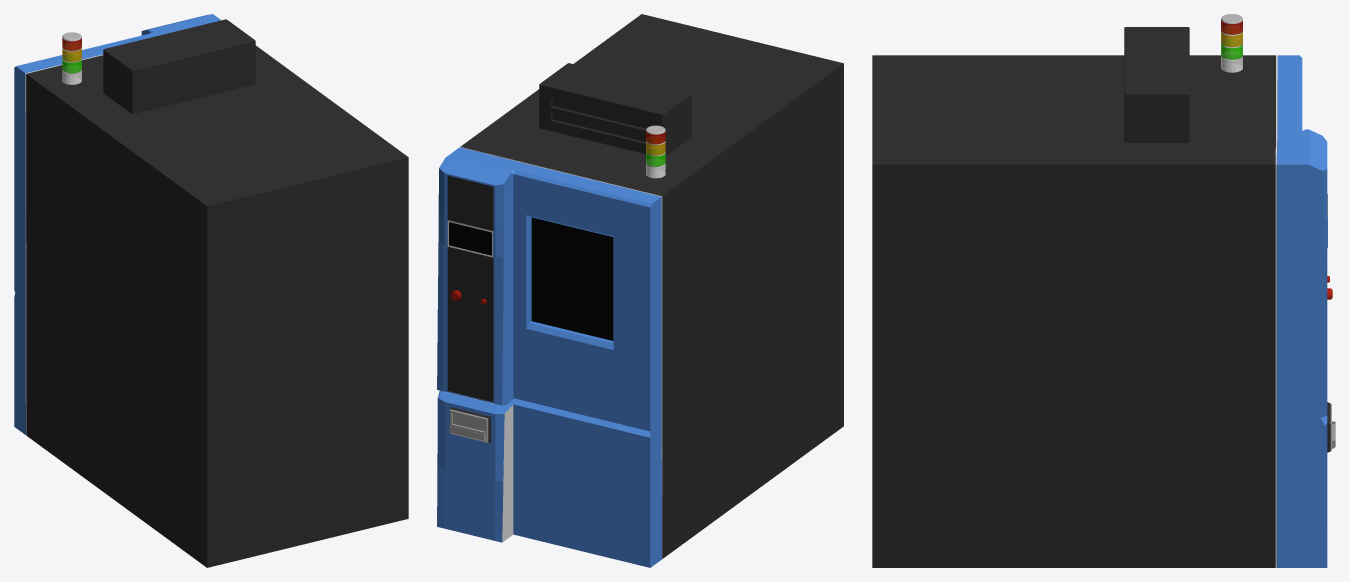
File: ART_RapidRateTempCylcingTestChamber.fbx
The picture shows the model from 3 angles, left to right: view 1: azimuth 30°, elevation 25°; view 2: azimuth 150°, elevation 25°; view 3: azimuth 270°, elevation 25°; orthographic projection. The views are drawn at different scales.
Parts seen in each view (by area): view 1: Cube, Cube.001, Cylinder.002; view 2: Cube, Cube.001, Cylinder.002; view 3: Cube, Cube.001, Cylinder.002.
Part boxes in pixels (x1=…): Cube: x1=14, y1=14, x2=408, y2=567; Cube.001: x1=103, y1=19, x2=255, y2=113; Cylinder.002: x1=62, y1=32, x2=81, y2=84; Cube: x1=437, y1=14, x2=843, y2=567; Cube.001: x1=539, y1=63, x2=691, y2=155; Cylinder.002: x1=646, y1=125, x2=665, y2=178; Cube: x1=872, y1=55, x2=1335, y2=567; Cube.001: x1=1124, y1=27, x2=1189, y2=142; Cylinder.002: x1=1221, y1=14, x2=1242, y2=72.
Bounding box in the file's own units: 118 × 228 × 210.
